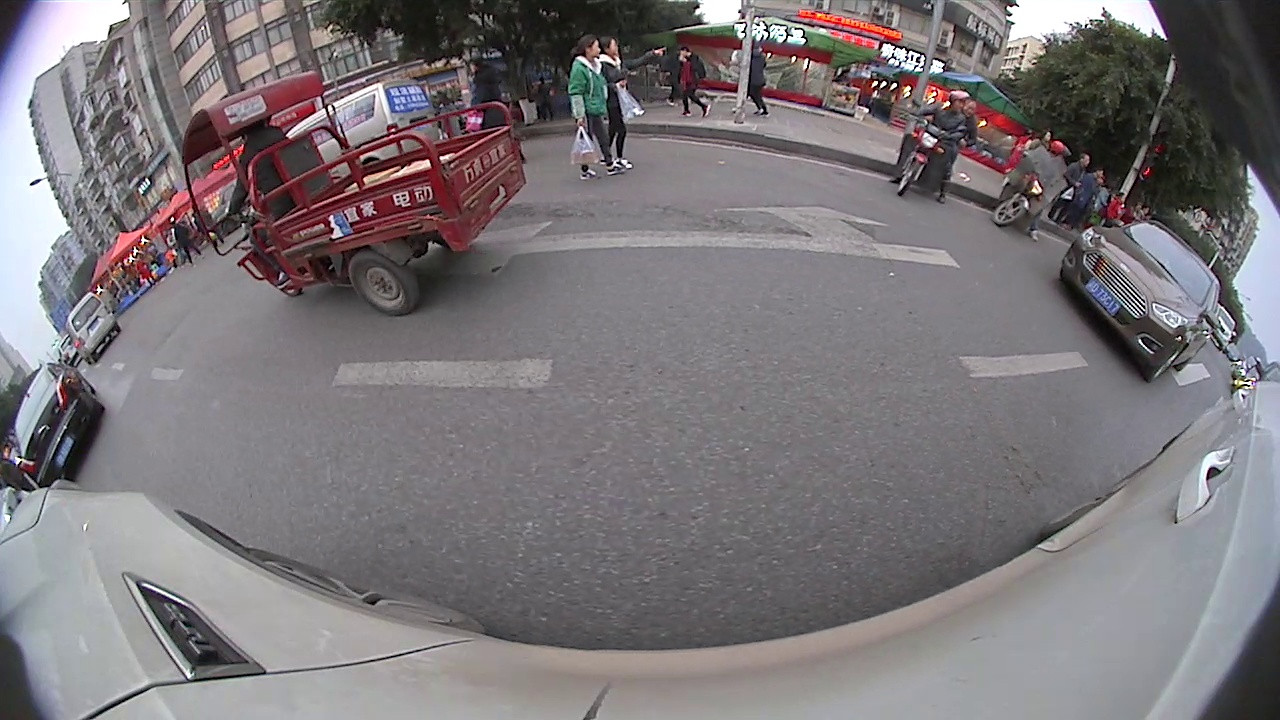bus: (169, 1, 962, 252), (934, 69, 1086, 148), (48, 223, 136, 358)
car: (918, 119, 1137, 280), (1092, 246, 1243, 430), (98, 240, 194, 342)
front: (291, 152, 363, 226), (1009, 216, 1059, 271)
rear: (711, 77, 795, 164), (1079, 243, 1116, 285), (120, 319, 146, 347)
truck: (1, 214, 111, 526)
